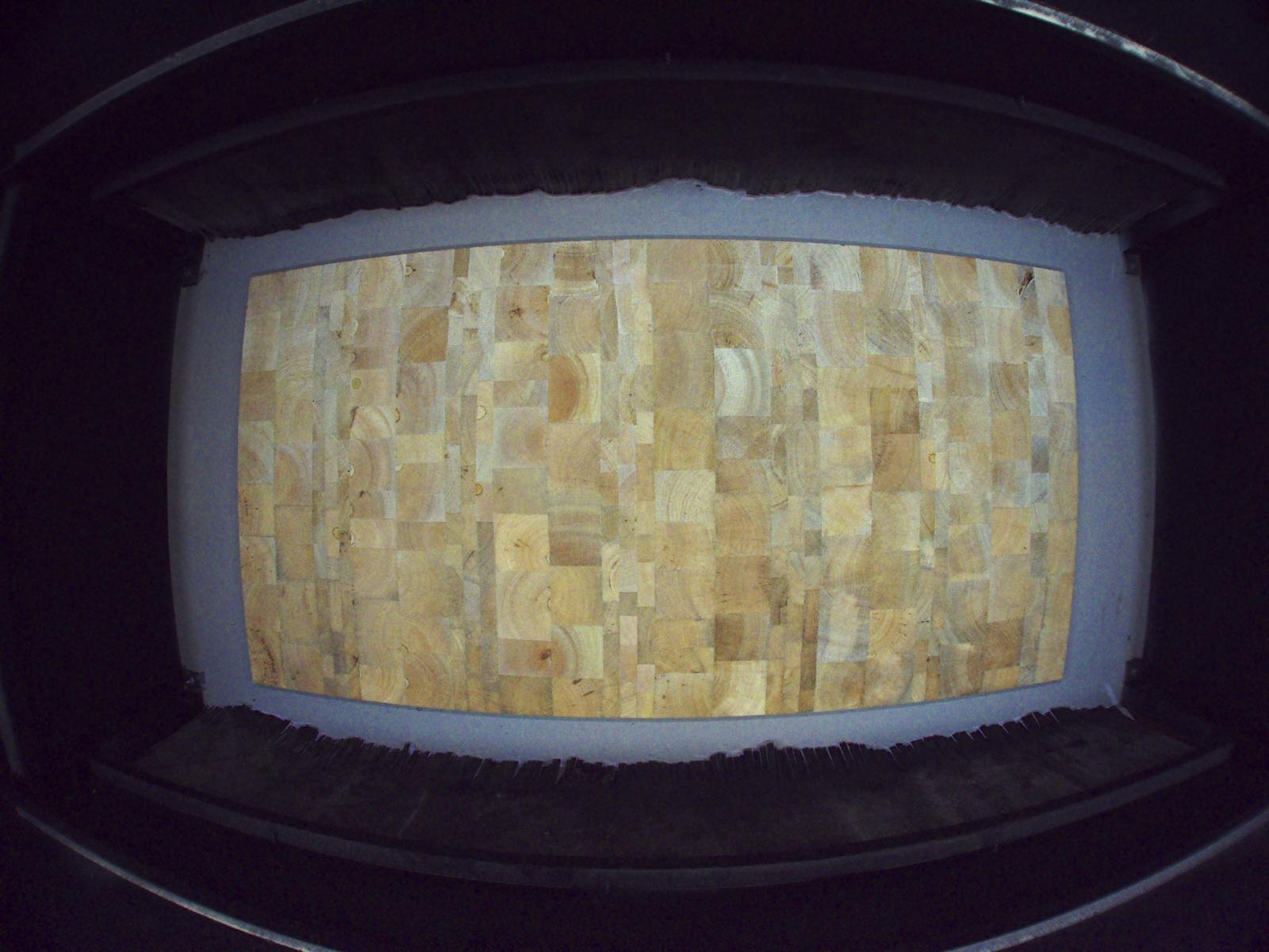nudillo: (1018, 270, 1035, 297)
